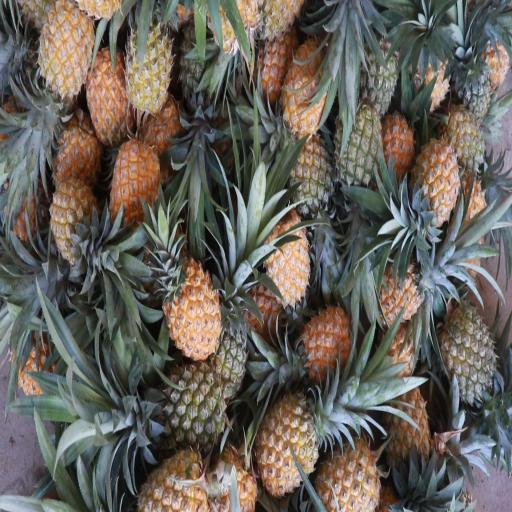------------------------------: (278, 128, 333, 233)
Pineapple - v8 v1: (246, 388, 325, 510), (98, 128, 159, 250), (377, 380, 435, 504), (289, 295, 359, 392), (156, 245, 218, 349), (116, 443, 208, 512), (30, 2, 88, 108), (356, 231, 419, 327), (404, 130, 462, 233), (250, 208, 308, 310), (118, 16, 173, 123), (194, 415, 254, 512), (275, 48, 328, 154), (80, 48, 134, 152), (304, 438, 380, 511), (433, 90, 492, 184), (44, 175, 94, 276), (251, 21, 304, 109)
